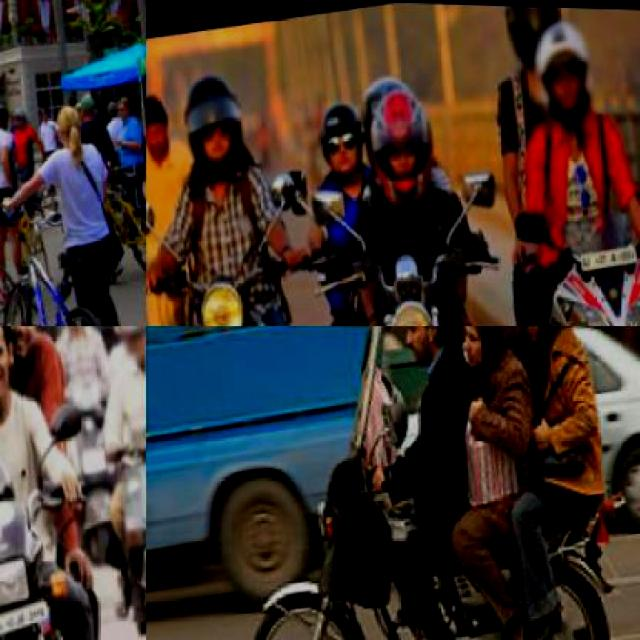With Helmet: (352, 80, 452, 214), (166, 59, 265, 184), (514, 7, 608, 136), (312, 91, 376, 178), (496, 3, 572, 74), (114, 326, 144, 368), (108, 326, 144, 343)
Without Helmet: (452, 326, 525, 371), (392, 326, 463, 366), (0, 326, 34, 405), (511, 326, 577, 349)
